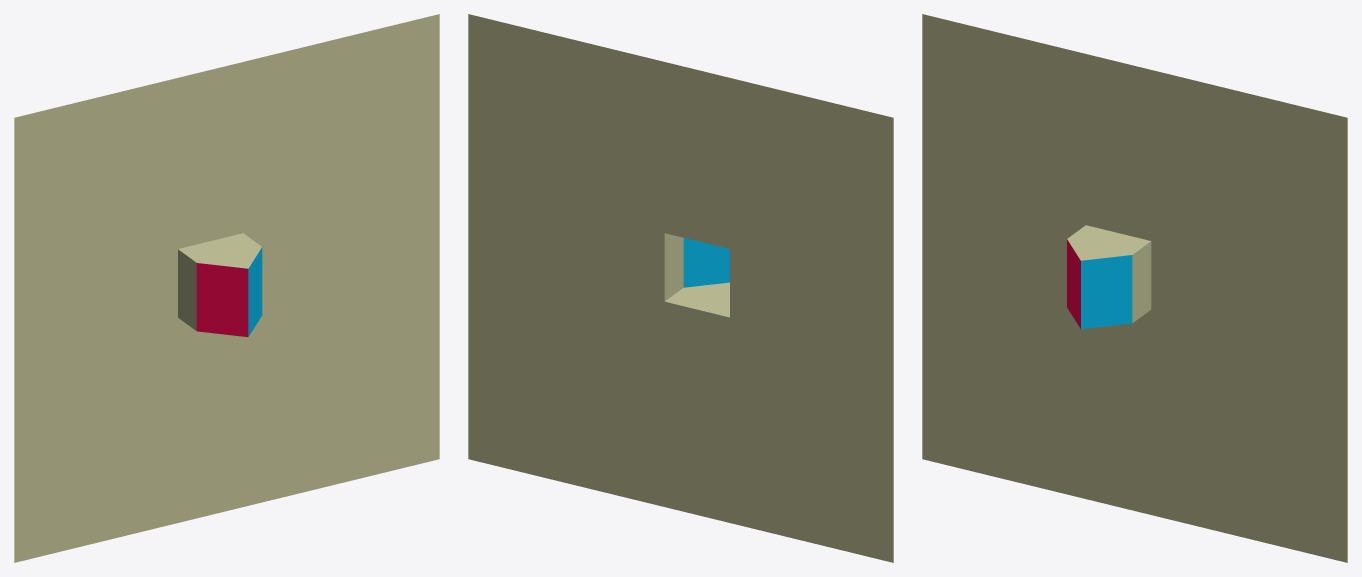
File: house.obj
3 renders of one model, left to right at view 1: azimuth 30°, elevation 25°; view 2: azimuth 150°, elevation 25°; view 3: azimuth 330°, elevation 25°, orthographic.
Parts seen in each view (by area): view 1: Box001; view 2: Box001; view 3: Box001.
Boxes of the visible parts, box(x1,y1,x2,y2) form: Box001: box(14, 14, 439, 562); Box001: box(468, 14, 893, 562); Box001: box(922, 14, 1347, 562).
Size of the model in its own units: 130 by 130 by 20.
